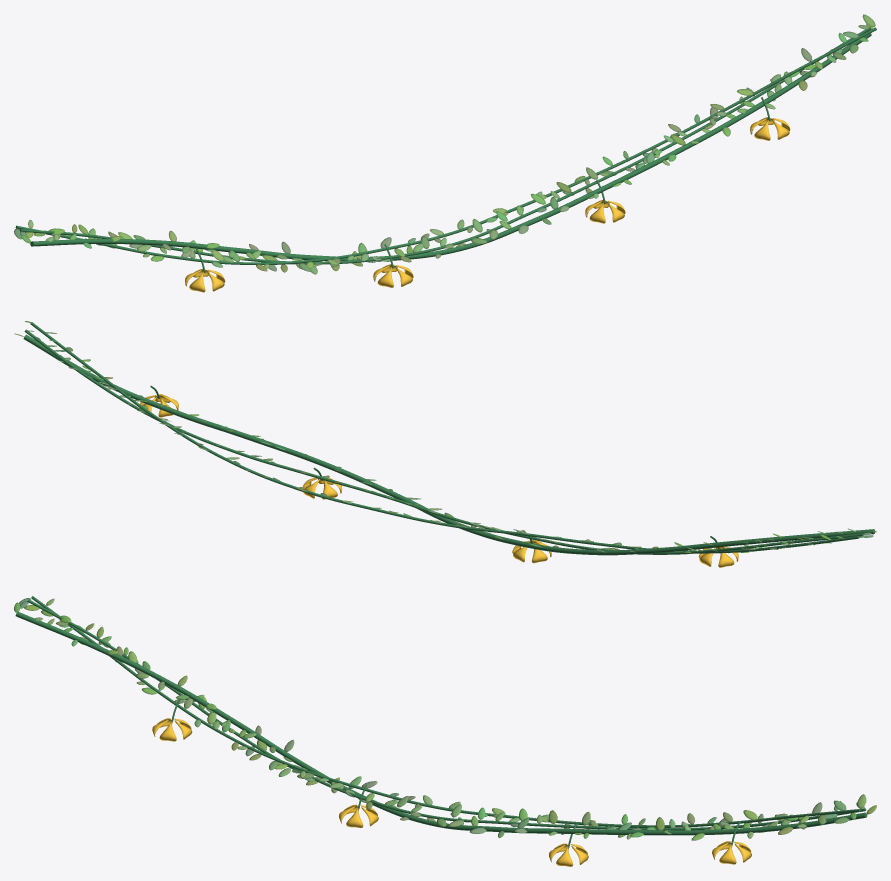
File: canopy-vine-crafted.glb
The picture shows the model from 3 angles, top to bottom: view 1: azimuth 30°, elevation 25°; view 2: azimuth 150°, elevation 25°; view 3: azimuth 330°, elevation 25°; orthographic projection.
Visible parts, largest first — view 1: detail-Canopy-jade-vine, Canopy curling leaves, detail-Canopy-golden-petals; view 2: detail-Canopy-jade-vine, Canopy curling leaves, detail-Canopy-golden-petals; view 3: detail-Canopy-jade-vine, Canopy curling leaves, detail-Canopy-golden-petals.
Boxes of the visible parts, bbox=[...] form: detail-Canopy-jade-vine: bbox=[15, 27, 876, 272]; Canopy curling leaves: bbox=[14, 14, 875, 274]; detail-Canopy-golden-petals: bbox=[185, 117, 790, 292]; detail-Canopy-jade-vine: bbox=[23, 322, 875, 555]; Canopy curling leaves: bbox=[14, 321, 876, 553]; detail-Canopy-golden-petals: bbox=[140, 394, 738, 567]; detail-Canopy-jade-vine: bbox=[15, 596, 867, 847]; Canopy curling leaves: bbox=[14, 598, 876, 840]; detail-Canopy-golden-petals: bbox=[152, 718, 751, 866].
Size of the model in its own units: 36.54 by 5.34 by 2.95.
